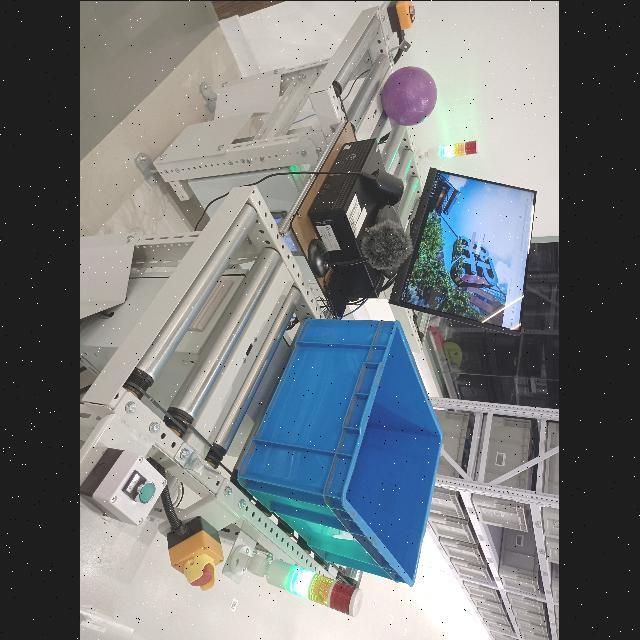P: (382, 65, 438, 125)
